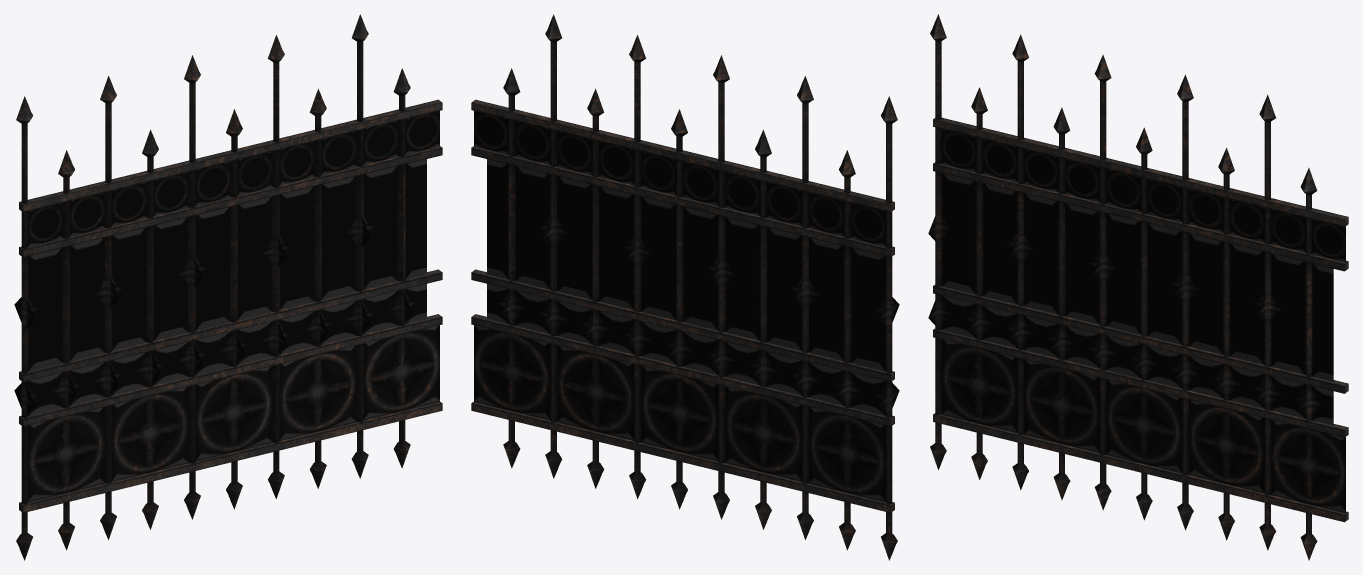
File: Iron Fence Small Short.FBX
The picture shows the model from 3 angles, left to right: view 1: azimuth 30°, elevation 25°; view 2: azimuth 150°, elevation 25°; view 3: azimuth 330°, elevation 25°; orthographic projection.
Parts seen in each view (by area): view 1: Iron Fence Short Small; view 2: Iron Fence Short Small; view 3: Iron Fence Short Small.
Boxes of the visible parts, x1=… form: Iron Fence Short Small: x1=14, y1=14, x2=442, y2=560; Iron Fence Short Small: x1=471, y1=14, x2=899, y2=560; Iron Fence Short Small: x1=928, y1=14, x2=1348, y2=560.
Bounding box in the file's own units: 20.24 × 21.19 × 1.71.
2 materials, 2 textured.
